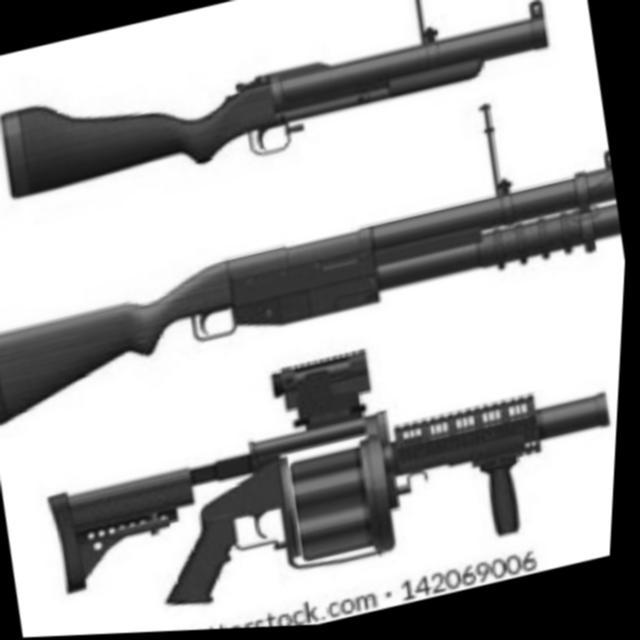weapon: (32, 298, 627, 638), (0, 0, 561, 215)
